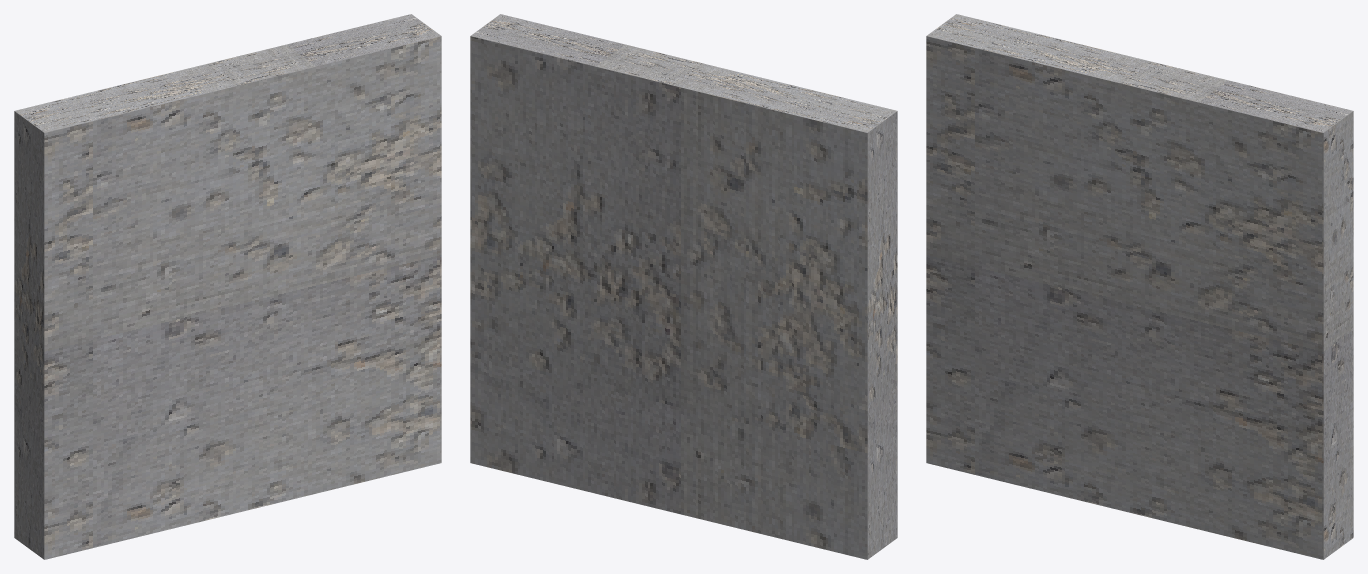
File: wall.glb
3 views of the same model, side by side, from view 1: azimuth 30°, elevation 25°; view 2: azimuth 150°, elevation 25°; view 3: azimuth 330°, elevation 25° (orthographic).
Parts seen in each view (by area): view 1: Cube.001; view 2: Cube.001; view 3: Cube.001.
Boxes of the visible parts, left/top/right/bottom form: Cube.001: left=14, top=14, right=441, bottom=559; Cube.001: left=470, top=14, right=897, bottom=559; Cube.001: left=926, top=14, right=1353, bottom=559.
Bounding box in the file's own units: 6.76 × 6.94 × 0.8896.
1 material, 1 textured.
